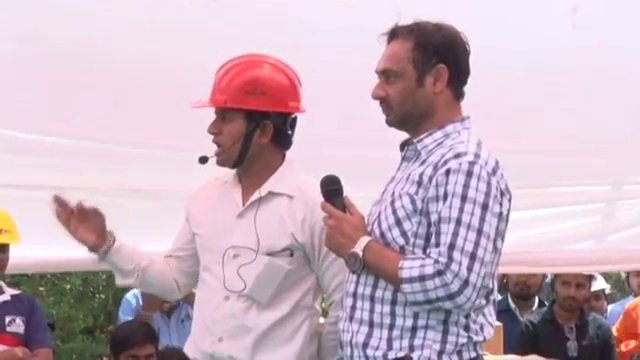helmet: (192, 54, 307, 113), (0, 204, 25, 251), (588, 273, 610, 296)
helmet_off: (368, 21, 474, 137), (546, 271, 597, 316), (106, 320, 163, 358), (508, 273, 544, 302), (625, 267, 640, 297)
helmet_on: (195, 52, 316, 176), (0, 205, 26, 288), (581, 275, 612, 318)
person: (56, 51, 340, 356), (316, 15, 514, 356), (524, 272, 616, 360), (0, 204, 49, 360), (118, 282, 190, 357), (484, 269, 549, 352), (615, 270, 640, 358)
